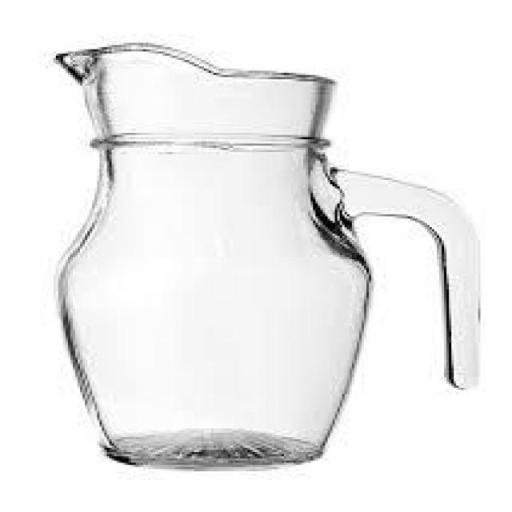glass: (42, 36, 502, 494)
